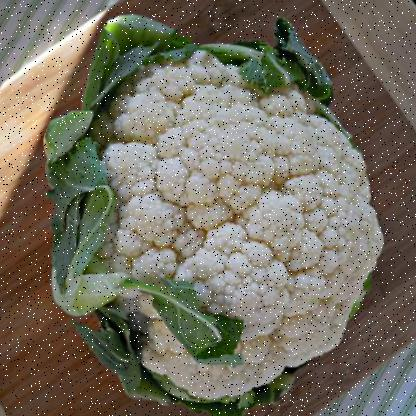cauliflower: (81, 64, 378, 377)
